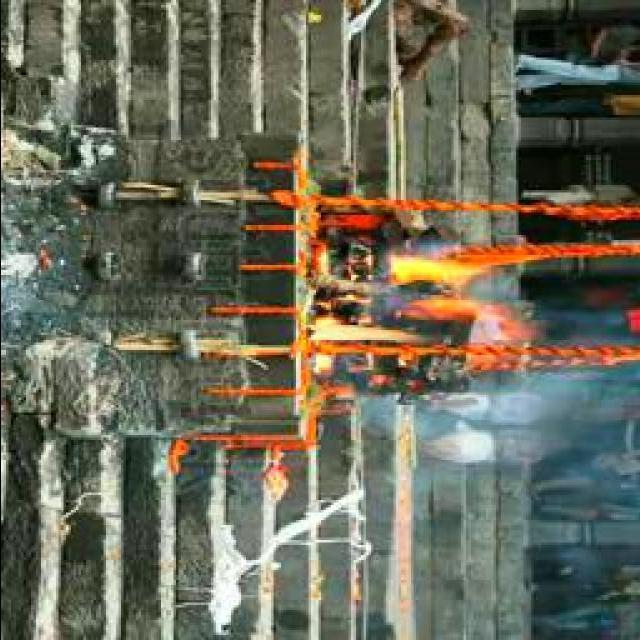Fire: (300, 250, 503, 362)
